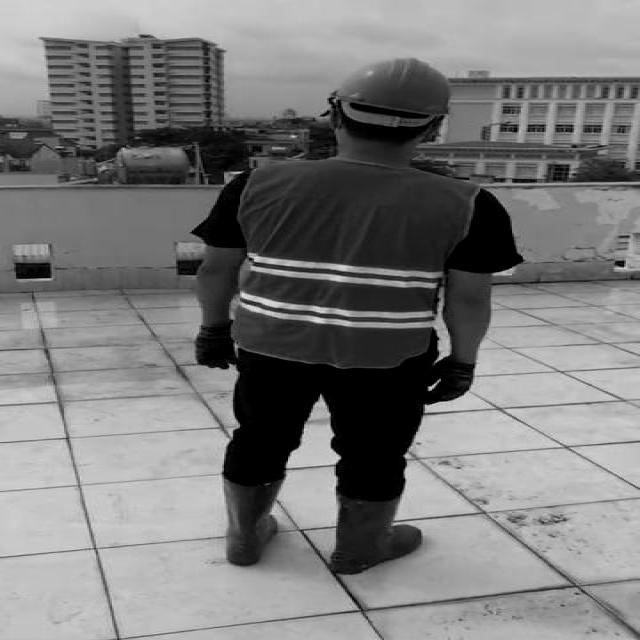boots: (333, 487, 423, 575), (226, 476, 277, 566)
hand_glove: (427, 358, 473, 407), (192, 325, 235, 370)
head_helmet: (322, 53, 464, 121)
person: (169, 52, 524, 583)
vest: (236, 162, 473, 366)
